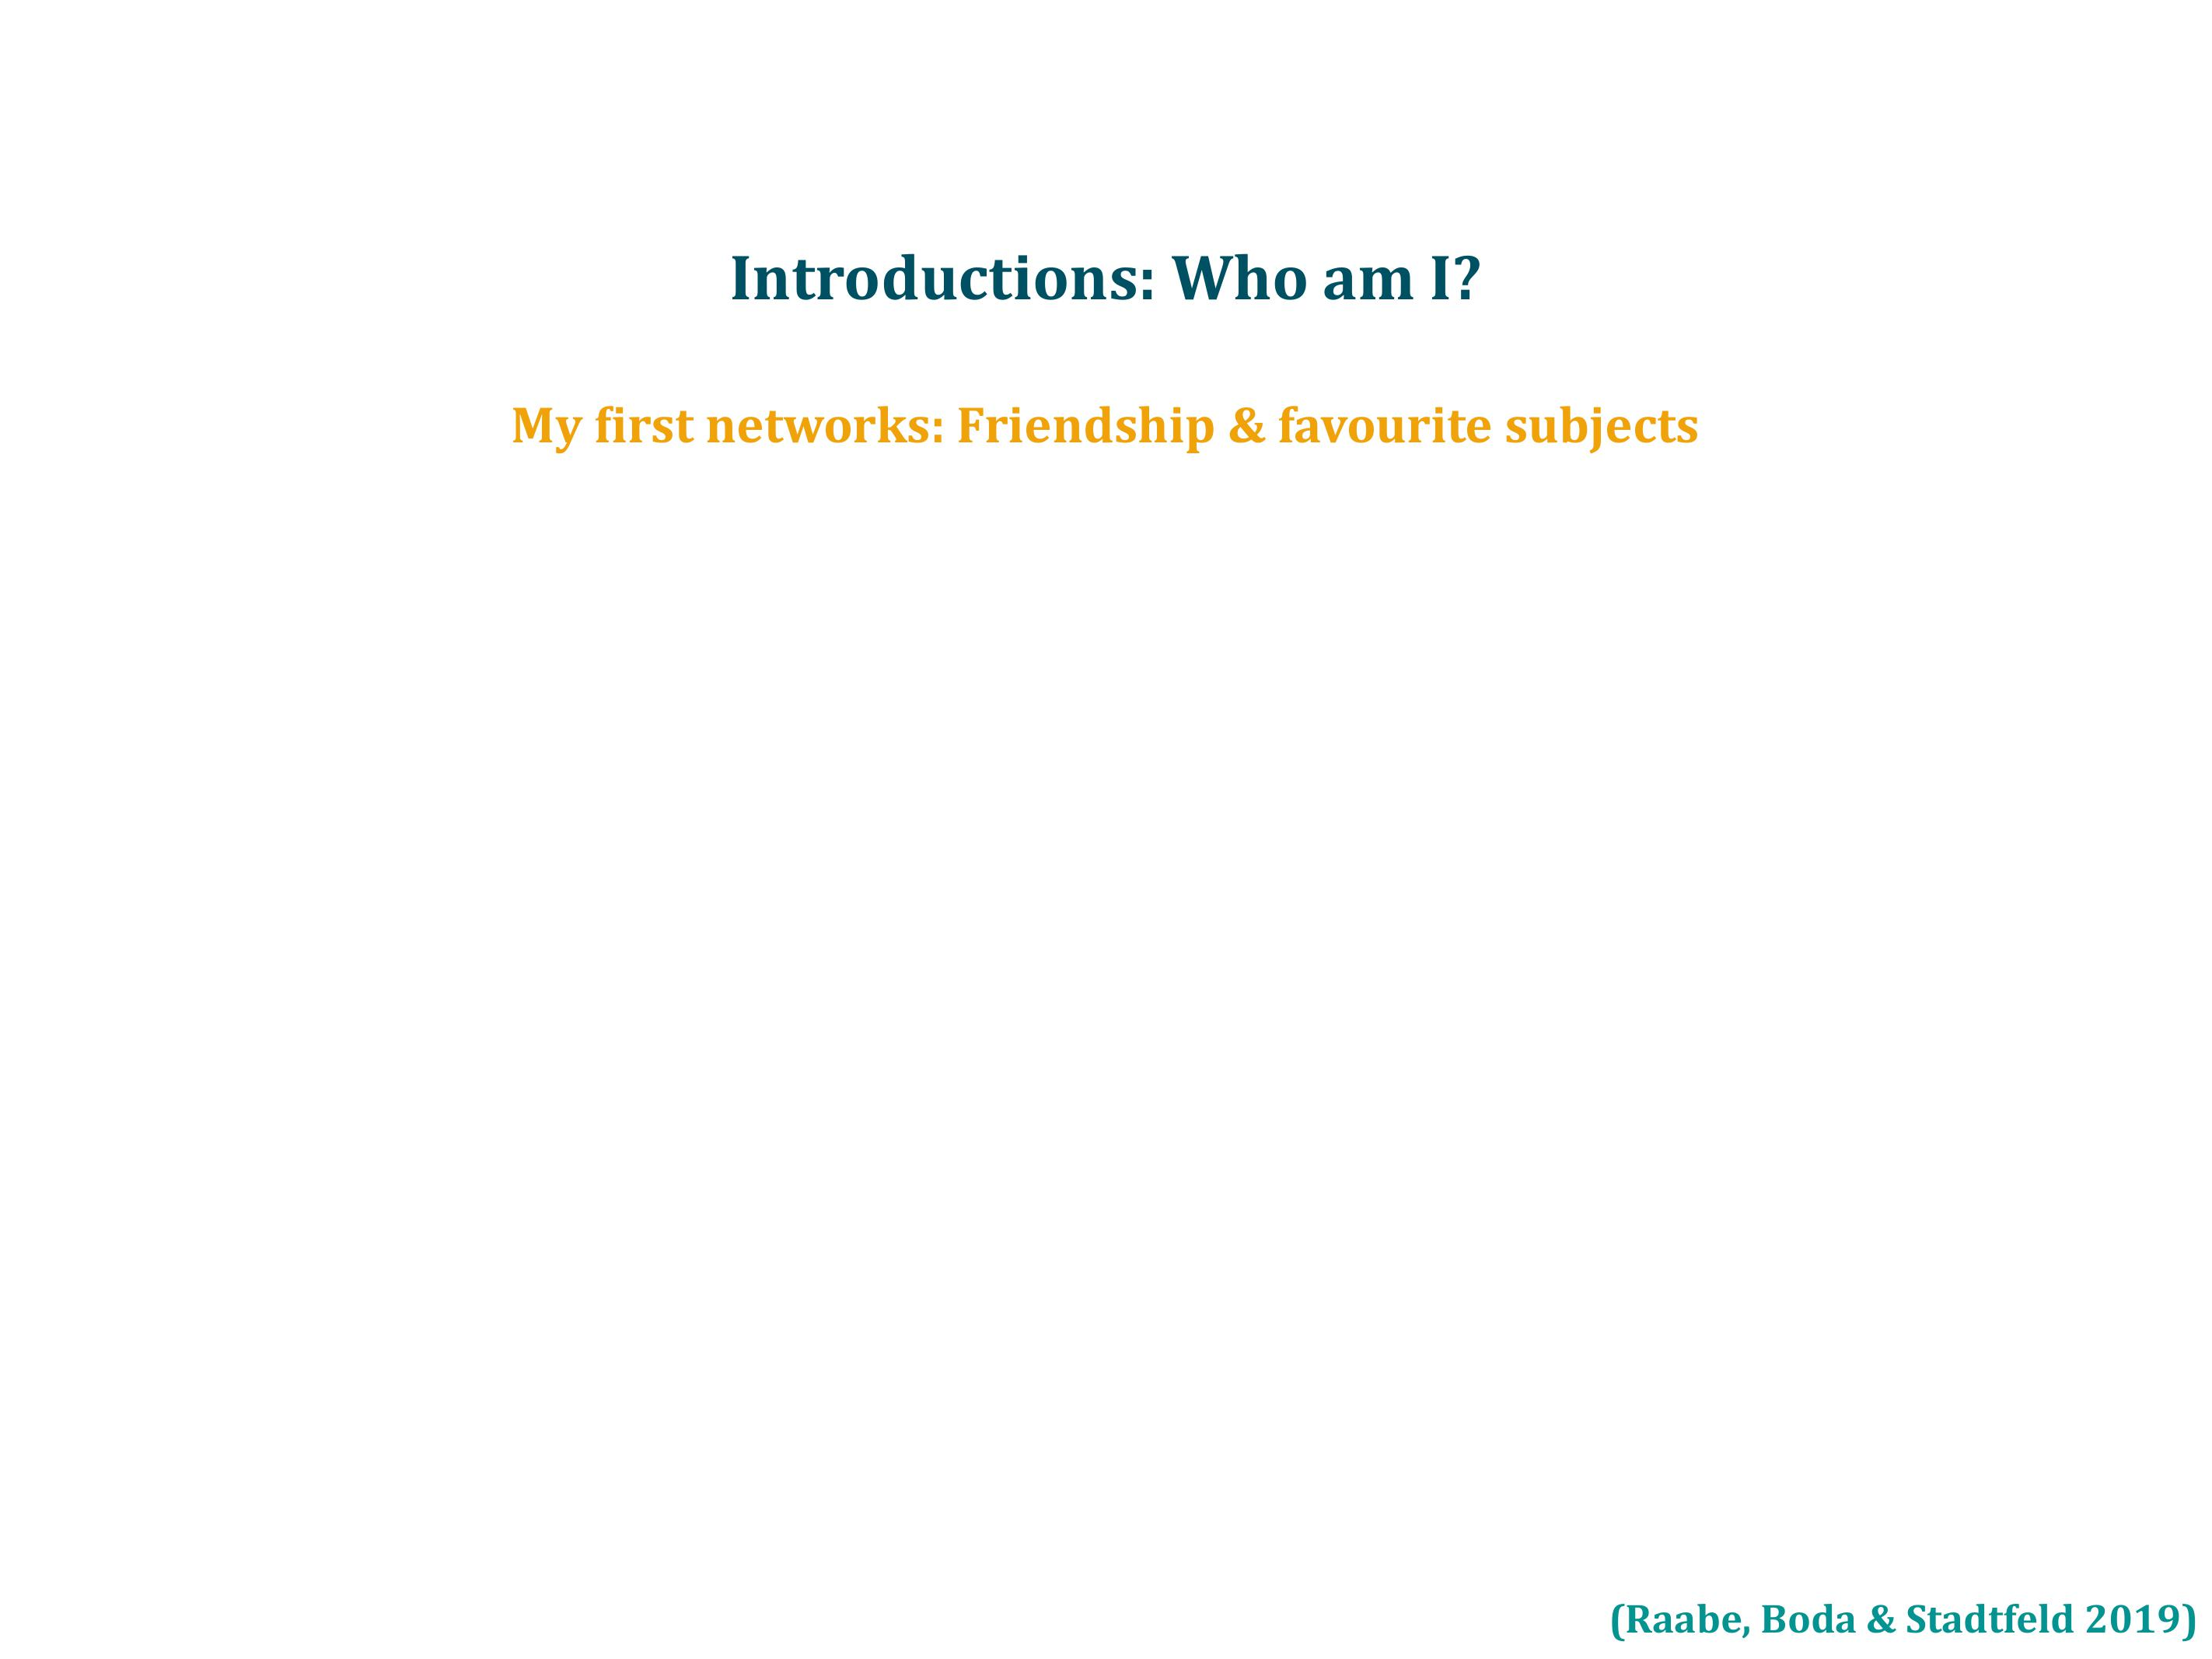Title: (706, 239, 1503, 328)
